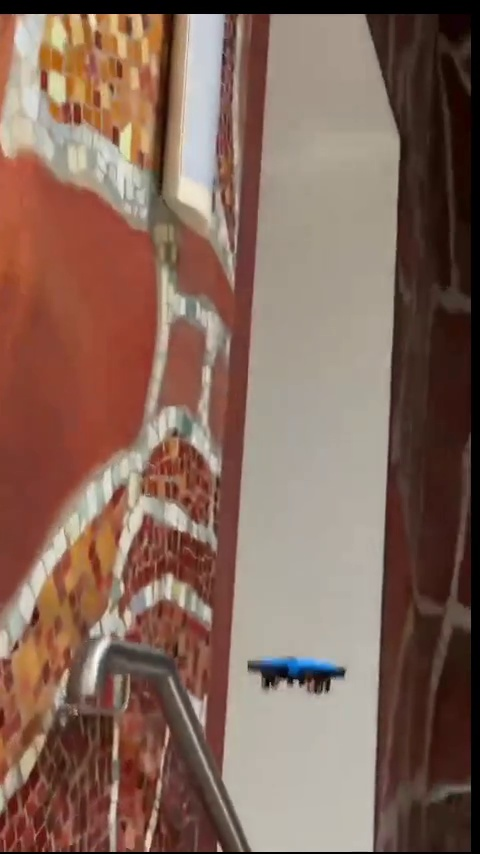drone: (247, 655, 347, 691)
